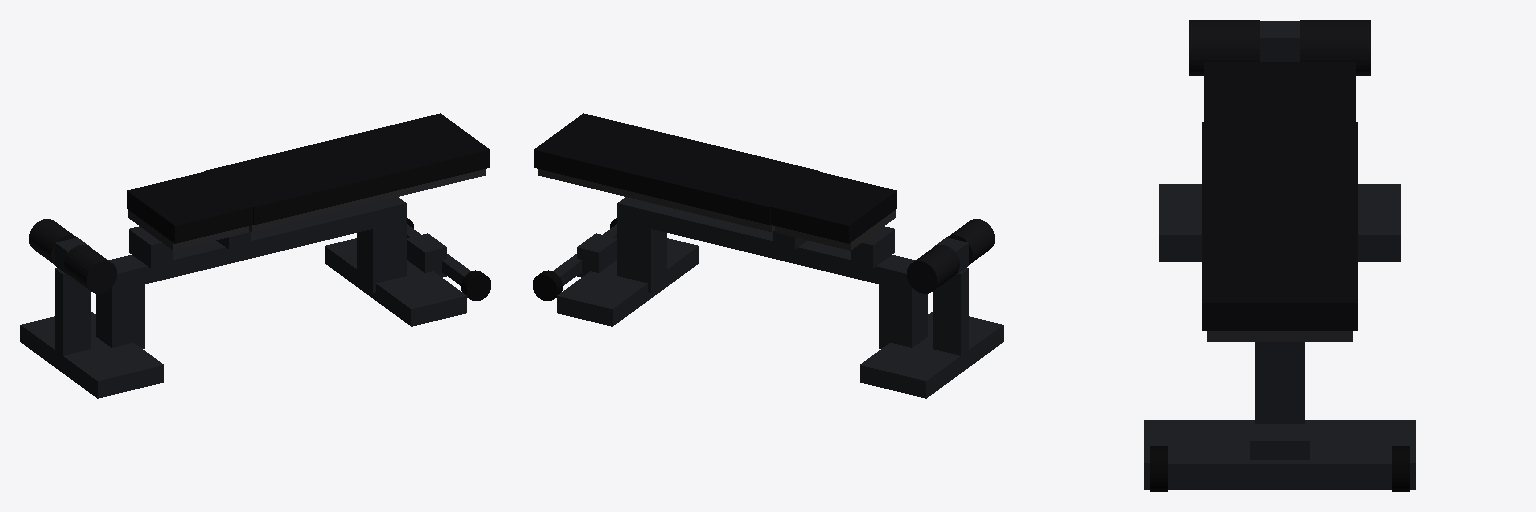
The robot description file, URDF, robot "decline_bench":
<robot name="decline_bench">
  <material name="frame_steel">
    <color rgba="0.14 0.15 0.17 1" />
    </material>
  <material name="upholstery">
    <color rgba="0.08 0.08 0.09 1" />
    </material>
  <material name="board">
    <color rgba="0.19 0.19 0.2 1" />
    </material>
  <material name="roller_vinyl">
    <color rgba="0.1 0.1 0.11 1" />
    </material>
  <material name="wheel_rubber">
    <color rgba="0.07 0.07 0.07 1" />
    </material>
  <link name="frame">
    <visual name="rear_foot">
      <origin xyz="0.6 0 0.03" rpy="0 0 0" />
      <geometry>
        <box size="0.2 0.54 0.06" />
        </geometry>
      <material name="frame_steel" />
      </visual>
    <visual name="front_foot">
      <origin xyz="-0.49 0 0.03" rpy="0 0 0" />
      <geometry>
        <box size="0.24 0.48 0.06" />
        </geometry>
      <material name="frame_steel" />
      </visual>
    <visual name="main_spine">
      <origin xyz="0.1 0 0.28" rpy="0 0 0" />
      <geometry>
        <box size="0.96 0.1 0.06" />
        </geometry>
      <material name="frame_steel" />
      </visual>
    <visual name="front_post">
      <origin xyz="-0.39 0 0.17" rpy="0 0 0" />
      <geometry>
        <box size="0.12 0.1 0.28" />
        </geometry>
      <material name="frame_steel" />
      </visual>
    <visual name="rear_post">
      <origin xyz="0.55 0 0.17" rpy="0 0 0" />
      <geometry>
        <box size="0.12 0.1 0.28" />
        </geometry>
      <material name="frame_steel" />
      </visual>
    <visual name="seat_hinge_block">
      <origin xyz="-0.28 0 0.35" rpy="0 0 0" />
      <geometry>
        <box size="0.08 0.14 0.08" />
        </geometry>
      <material name="frame_steel" />
      </visual>
    <visual name="backrest_hinge_block">
      <origin xyz="0 0 0.35" rpy="0 0 0" />
      <geometry>
        <box size="0.08 0.14 0.08" />
        </geometry>
      <material name="frame_steel" />
      </visual>
    <visual name="front_roller_post">
      <origin xyz="-0.56 0 0.185" rpy="0 0 0" />
      <geometry>
        <box size="0.1 0.05 0.31" />
        </geometry>
      <material name="frame_steel" />
      </visual>
    <visual name="front_roller_axle">
      <origin xyz="-0.56 0 0.38" rpy="0 0 0" />
      <geometry>
        <box size="0.08 0.08 0.08" />
        </geometry>
      <material name="frame_steel" />
      </visual>
    <visual name="rear_wheel_bracket">
      <origin xyz="0.71 0 0.08" rpy="0 0 0" />
      <geometry>
        <box size="0.08 0.12 0.1" />
        </geometry>
      <material name="frame_steel" />
      </visual>
    <visual name="rear_axle">
      <origin xyz="0.75 0 0.07" rpy="0 0 0" />
      <geometry>
        <box size="0.04 0.445 0.04" />
        </geometry>
      <material name="frame_steel" />
      </visual>
    <collision name="rear_foot">
      <origin xyz="0.6 0 0.03" rpy="0 0 0" />
      <geometry>
        <box size="0.2 0.54 0.06" />
        </geometry>
      </collision>
    <collision name="front_foot">
      <origin xyz="-0.49 0 0.03" rpy="0 0 0" />
      <geometry>
        <box size="0.24 0.48 0.06" />
        </geometry>
      </collision>
    <collision name="main_spine">
      <origin xyz="0.1 0 0.28" rpy="0 0 0" />
      <geometry>
        <box size="0.96 0.1 0.06" />
        </geometry>
      </collision>
    <collision name="front_post">
      <origin xyz="-0.39 0 0.17" rpy="0 0 0" />
      <geometry>
        <box size="0.12 0.1 0.28" />
        </geometry>
      </collision>
    <collision name="rear_post">
      <origin xyz="0.55 0 0.17" rpy="0 0 0" />
      <geometry>
        <box size="0.12 0.1 0.28" />
        </geometry>
      </collision>
    <collision name="seat_hinge_block">
      <origin xyz="-0.28 0 0.35" rpy="0 0 0" />
      <geometry>
        <box size="0.08 0.14 0.08" />
        </geometry>
      </collision>
    <collision name="backrest_hinge_block">
      <origin xyz="0 0 0.35" rpy="0 0 0" />
      <geometry>
        <box size="0.08 0.14 0.08" />
        </geometry>
      </collision>
    <collision name="front_roller_post">
      <origin xyz="-0.56 0 0.185" rpy="0 0 0" />
      <geometry>
        <box size="0.1 0.05 0.31" />
        </geometry>
      </collision>
    <collision name="front_roller_axle">
      <origin xyz="-0.56 0 0.38" rpy="0 0 0" />
      <geometry>
        <box size="0.08 0.08 0.08" />
        </geometry>
      </collision>
    <collision name="rear_wheel_bracket">
      <origin xyz="0.71 0 0.08" rpy="0 0 0" />
      <geometry>
        <box size="0.08 0.12 0.1" />
        </geometry>
      </collision>
    <collision name="rear_axle">
      <origin xyz="0.75 0 0.07" rpy="0 0 0" />
      <geometry>
        <box size="0.04 0.445 0.04" />
        </geometry>
      </collision>
    </link>
  <link name="seat">
    <visual name="seat_board">
      <origin xyz="0.135 0 0.014" rpy="0 0 0" />
      <geometry>
        <box size="0.27 0.28 0.028" />
        </geometry>
      <material name="board" />
      </visual>
    <visual name="seat_cushion">
      <origin xyz="0.14 0 0.059" rpy="0 0 0" />
      <geometry>
        <box size="0.28 0.3 0.062" />
        </geometry>
      <material name="upholstery" />
      </visual>
    <visual name="seat_support">
      <origin xyz="0.14 0 -0.02" rpy="0 0 0" />
      <geometry>
        <box size="0.14 0.08 0.04" />
        </geometry>
      <material name="frame_steel" />
      </visual>
    <collision name="seat_board">
      <origin xyz="0.135 0 0.014" rpy="0 0 0" />
      <geometry>
        <box size="0.27 0.28 0.028" />
        </geometry>
      </collision>
    <collision name="seat_cushion">
      <origin xyz="0.14 0 0.059" rpy="0 0 0" />
      <geometry>
        <box size="0.28 0.3 0.062" />
        </geometry>
      </collision>
    <collision name="seat_support">
      <origin xyz="0.14 0 -0.02" rpy="0 0 0" />
      <geometry>
        <box size="0.14 0.08 0.04" />
        </geometry>
      </collision>
    </link>
  <link name="backrest">
    <visual name="backrest_board">
      <origin xyz="0.42 0 0.014" rpy="0 0 0" />
      <geometry>
        <box size="0.84 0.29 0.028" />
        </geometry>
      <material name="board" />
      </visual>
    <visual name="backrest_cushion">
      <origin xyz="0.425 0 0.059" rpy="0 0 0" />
      <geometry>
        <box size="0.85 0.31 0.062" />
        </geometry>
      <material name="upholstery" />
      </visual>
    <visual name="backrest_support">
      <origin xyz="0.19 0 -0.02" rpy="0 0 0" />
      <geometry>
        <box size="0.28 0.08 0.04" />
        </geometry>
      <material name="frame_steel" />
      </visual>
    <collision name="backrest_board">
      <origin xyz="0.42 0 0.014" rpy="0 0 0" />
      <geometry>
        <box size="0.84 0.29 0.028" />
        </geometry>
      </collision>
    <collision name="backrest_cushion">
      <origin xyz="0.425 0 0.059" rpy="0 0 0" />
      <geometry>
        <box size="0.85 0.31 0.062" />
        </geometry>
      </collision>
    <collision name="backrest_support">
      <origin xyz="0.19 0 -0.02" rpy="0 0 0" />
      <geometry>
        <box size="0.28 0.08 0.04" />
        </geometry>
      </collision>
    </link>
  <link name="leg_roller_0">
    <visual name="roller_body">
      <origin xyz="0 0 0" rpy="-1.5708 0 0" />
      <geometry>
        <cylinder radius="0.055" length="0.14" />
        </geometry>
      <material name="roller_vinyl" />
      </visual>
    <collision name="roller_body">
      <origin xyz="0 0 0" rpy="-1.5708 0 0" />
      <geometry>
        <cylinder radius="0.055" length="0.14" />
        </geometry>
      </collision>
    </link>
  <link name="leg_roller_1">
    <visual name="roller_body">
      <origin xyz="0 0 0" rpy="-1.5708 0 0" />
      <geometry>
        <cylinder radius="0.055" length="0.14" />
        </geometry>
      <material name="roller_vinyl" />
      </visual>
    <collision name="roller_body">
      <origin xyz="0 0 0" rpy="-1.5708 0 0" />
      <geometry>
        <cylinder radius="0.055" length="0.14" />
        </geometry>
      </collision>
    </link>
  <link name="wheel_0">
    <visual name="wheel_body">
      <origin xyz="0 0 0" rpy="-1.5708 0 0" />
      <geometry>
        <cylinder radius="0.045" length="0.035" />
        </geometry>
      <material name="wheel_rubber" />
      </visual>
    <collision name="wheel_body">
      <origin xyz="0 0 0" rpy="-1.5708 0 0" />
      <geometry>
        <cylinder radius="0.045" length="0.035" />
        </geometry>
      </collision>
    </link>
  <link name="wheel_1">
    <visual name="wheel_body">
      <origin xyz="0 0 0" rpy="-1.5708 0 0" />
      <geometry>
        <cylinder radius="0.045" length="0.035" />
        </geometry>
      <material name="wheel_rubber" />
      </visual>
    <collision name="wheel_body">
      <origin xyz="0 0 0" rpy="-1.5708 0 0" />
      <geometry>
        <cylinder radius="0.045" length="0.035" />
        </geometry>
      </collision>
    </link>
  <joint name="seat_hinge" type="revolute">
    <origin xyz="-0.28 0 0.39" rpy="0 0 0" />
    <parent link="frame" />
    <child link="seat" />
    <axis xyz="0 -1 0" />
    <limit effort="120" velocity="1.5" lower="0" upper="0.42" />
    </joint>
  <joint name="backrest_hinge" type="revolute">
    <origin xyz="0 0 0.39" rpy="0 0 0" />
    <parent link="frame" />
    <child link="backrest" />
    <axis xyz="0 -1 0" />
    <limit effort="180" velocity="1.2" lower="0" upper="1.35" />
    </joint>
  <joint name="leg_roller_0_spin" type="continuous">
    <origin xyz="-0.56 0.11 0.38" rpy="0 0 0" />
    <parent link="frame" />
    <child link="leg_roller_0" />
    <axis xyz="0 1 0" />
    <limit effort="25" velocity="8" />
    </joint>
  <joint name="leg_roller_1_spin" type="continuous">
    <origin xyz="-0.56 -0.11 0.38" rpy="0 0 0" />
    <parent link="frame" />
    <child link="leg_roller_1" />
    <axis xyz="0 1 0" />
    <limit effort="25" velocity="8" />
    </joint>
  <joint name="wheel_0_spin" type="continuous">
    <origin xyz="0.75 0.24 0.07" rpy="0 0 0" />
    <parent link="frame" />
    <child link="wheel_0" />
    <axis xyz="0 1 0" />
    <limit effort="12" velocity="12" />
    </joint>
  <joint name="wheel_1_spin" type="continuous">
    <origin xyz="0.75 -0.24 0.07" rpy="0 0 0" />
    <parent link="frame" />
    <child link="wheel_1" />
    <axis xyz="0 1 0" />
    <limit effort="12" velocity="12" />
    </joint>
  </robot>

--- Render facts (derived) ---
The picture shows the robot from 3 angles, left to right: view 1: azimuth 30°, elevation 25°; view 2: azimuth 150°, elevation 25°; view 3: azimuth 270°, elevation 25°; orthographic projection.
Model decline_bench with 7 links and 6 joints (2 revolute, 4 continuous), rooted at frame, posed all joints at 0.
Links seen in each view (by area): view 1: frame, backrest, seat, leg_roller_1, leg_roller_0, wheel_1; view 2: frame, backrest, seat, leg_roller_0, leg_roller_1, wheel_0; view 3: backrest, frame, seat, leg_roller_0, leg_roller_1, wheel_0, wheel_1.
Link boxes in pixels (<box>): frame: <box>20,197,470,398</box>; backrest: <box>204,113,489,231</box>; seat: <box>127,172,252,250</box>; leg_roller_1: <box>64,245,116,293</box>; leg_roller_0: <box>29,219,76,264</box>; wheel_1: <box>461,270,490,300</box>; frame: <box>553,197,1003,398</box>; backrest: <box>534,113,819,231</box>; seat: <box>771,172,896,250</box>; leg_roller_0: <box>907,245,959,293</box>; leg_roller_1: <box>947,219,994,264</box>; wheel_0: <box>533,270,562,300</box>; backrest: <box>1202,122,1357,341</box>; frame: <box>1144,21,1415,489</box>; seat: <box>1204,62,1355,121</box>; leg_roller_0: <box>1300,20,1370,75</box>; leg_roller_1: <box>1189,20,1259,75</box>; wheel_0: <box>1392,446,1409,491</box>; wheel_1: <box>1150,446,1167,491</box>.
Size in the robot's own frame: 1.47 by 0.54 by 0.48 metres.
Geometry: primitives only (box / cylinder / sphere), no mesh files.
